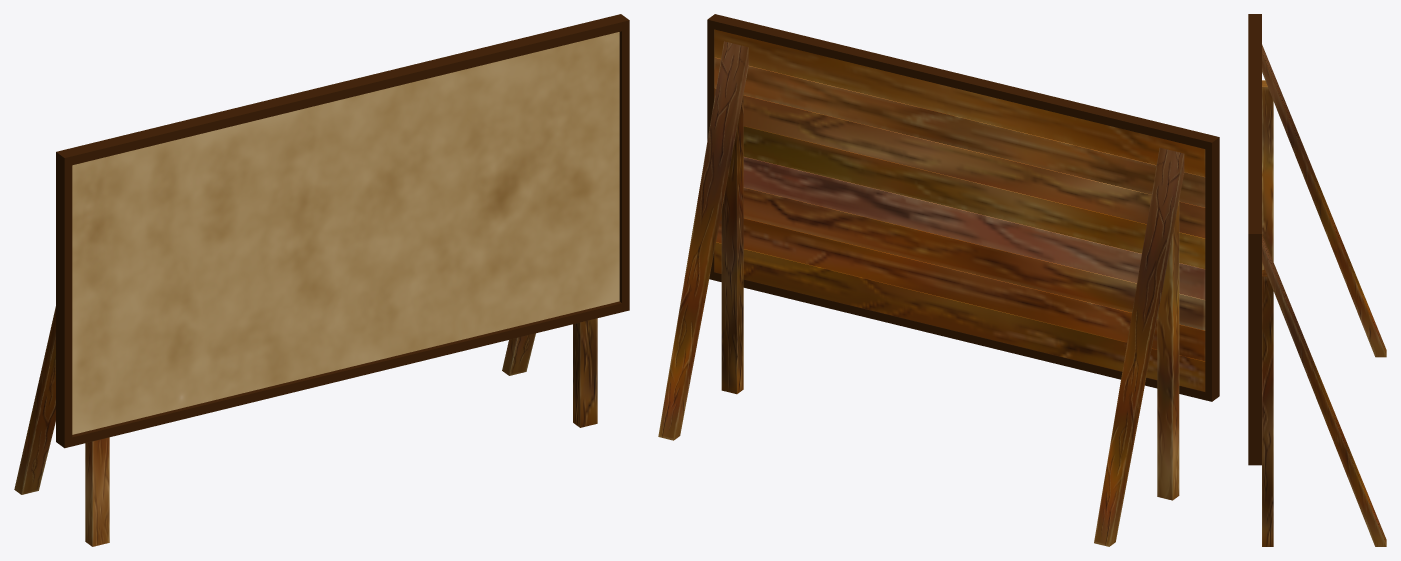
Rendered from Outdoor.fbx.
The picture shows the model from 3 angles, left to right: view 1: azimuth 30°, elevation 25°; view 2: azimuth 150°, elevation 25°; view 3: azimuth 270°, elevation 25°; orthographic projection. The views are drawn at different scales.
Visible parts, largest first — view 1: Outdoor; view 2: Outdoor; view 3: Outdoor.
Part boxes in pixels (bbox=[...]): Outdoor: bbox=[14, 14, 629, 546]; Outdoor: bbox=[658, 14, 1219, 546]; Outdoor: bbox=[1248, 14, 1386, 546].
Size of the model in its own units: 3.74 by 2.56 by 0.9973.
